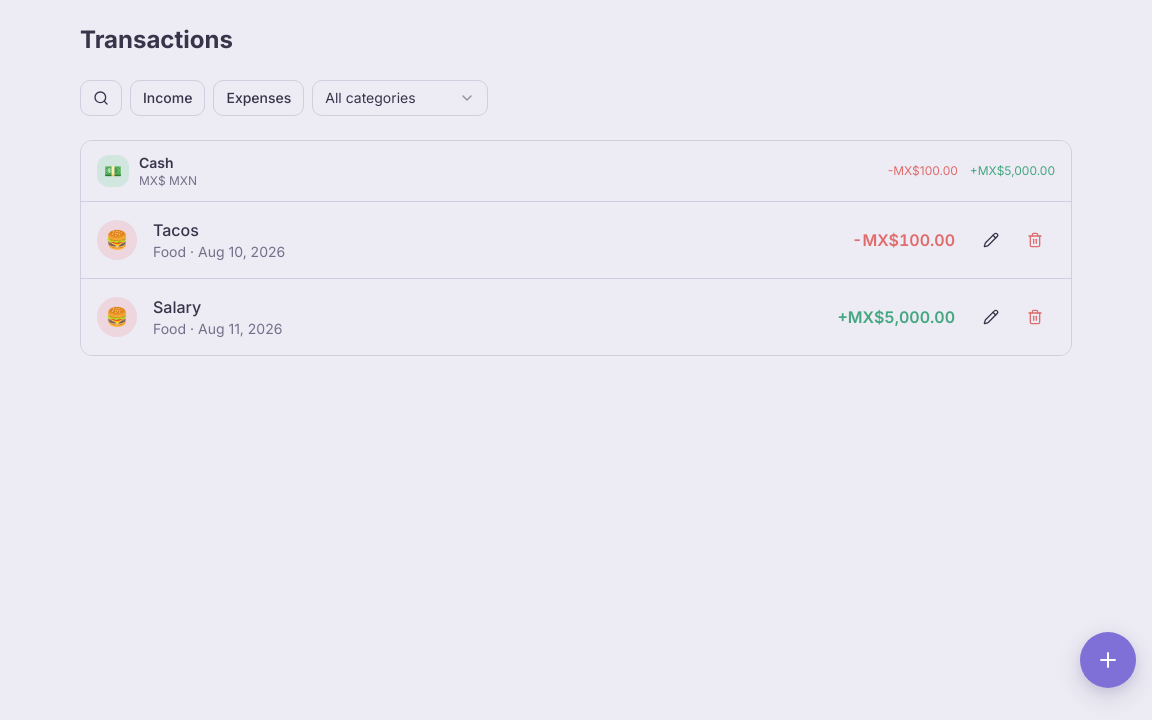
it: Transactions filter toolbar › shows a magnifier instead of a search bar, which expands into an input when clicked
What coordinates should you click on to do the following:
click the button named "Open search"
I would click on:
 (101, 98)
Its box is [80, 80, 122, 116].
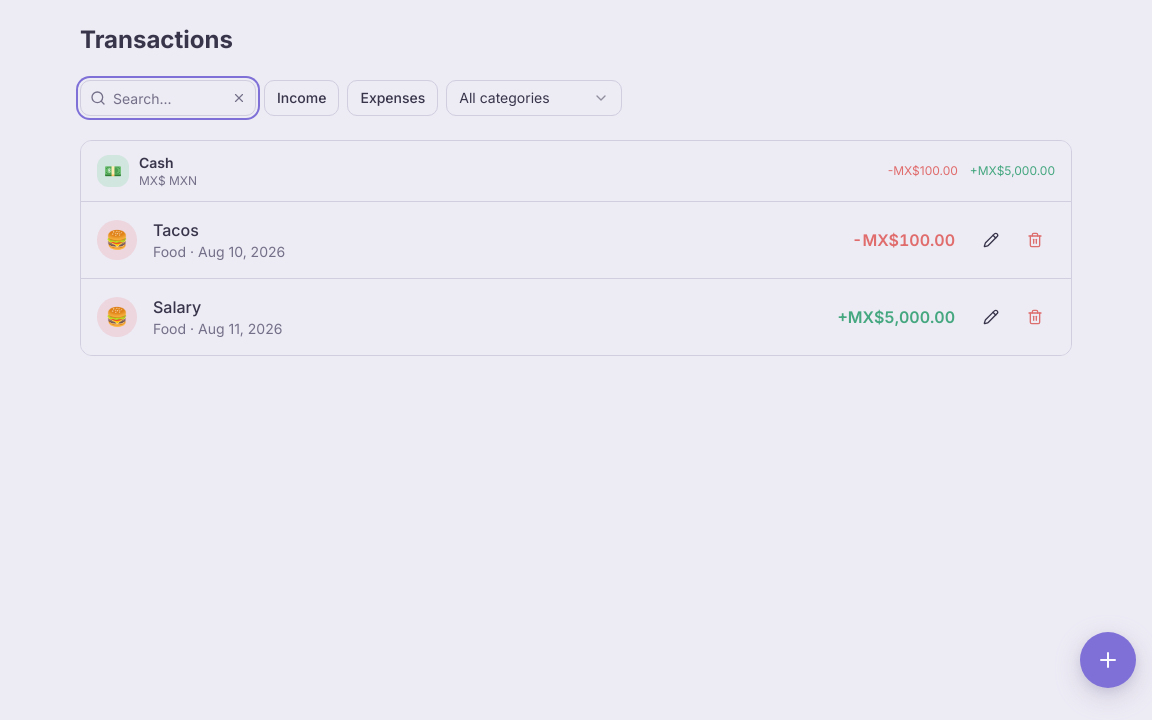
Now the field named "Search transactions" is shown, box [80, 80, 256, 116]
